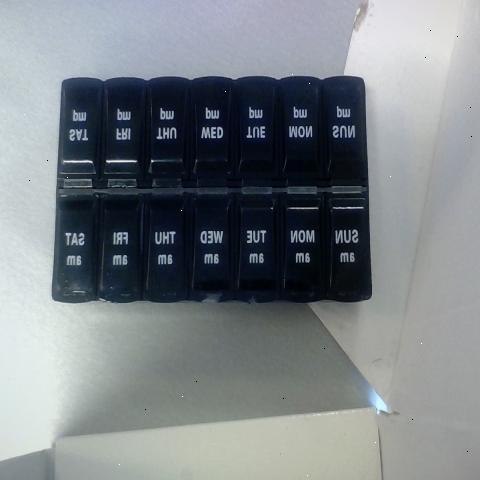FRI-am: (101, 206, 137, 301)
FRI-pm: (286, 198, 324, 306)
MON-am: (100, 79, 144, 182)
MON-pm: (282, 78, 320, 182)
SAT-am: (58, 202, 97, 299)
SAT-pm: (61, 82, 97, 186)
SUN-am: (332, 206, 366, 303)
SUN-pm: (326, 86, 364, 178)
THU-am: (142, 206, 183, 300)
THU-pm: (149, 77, 189, 185)
TUE-am: (243, 200, 283, 303)
TUE-pm: (236, 79, 279, 190)
WED-am: (192, 200, 233, 304)
WED-pm: (192, 82, 233, 188)
